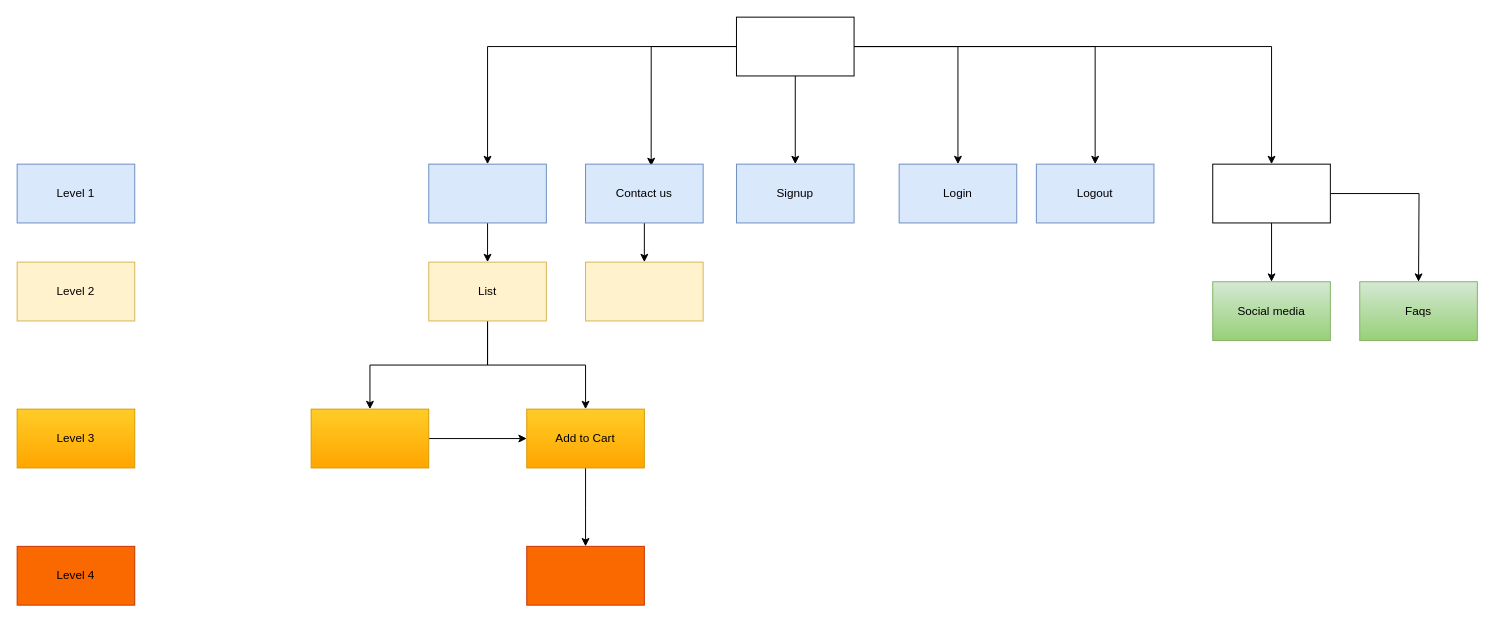
Image size: 1495x622. Some labels were removed from this diagram. Here are the shapes that lost their labels. From the top down, the centre of each, then its label:
At point (794, 46): "Home".
At point (487, 193): "Products".
At point (1271, 193): "Footer menu".
At point (644, 291): "Send Request".
At point (369, 438): "Details".
At point (585, 575): "Payment".
